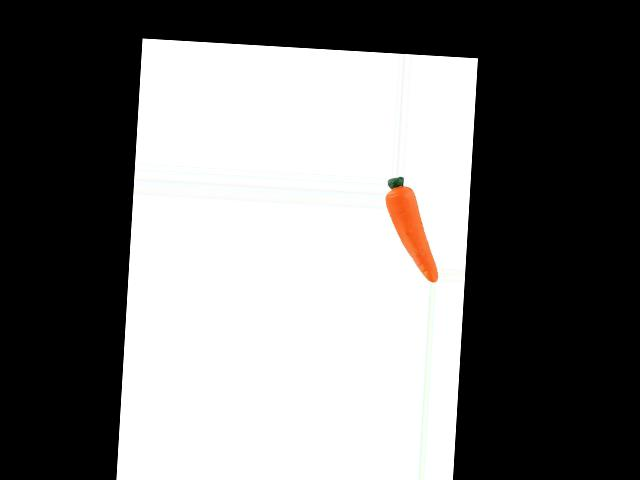carrot: (381, 185, 444, 282)
